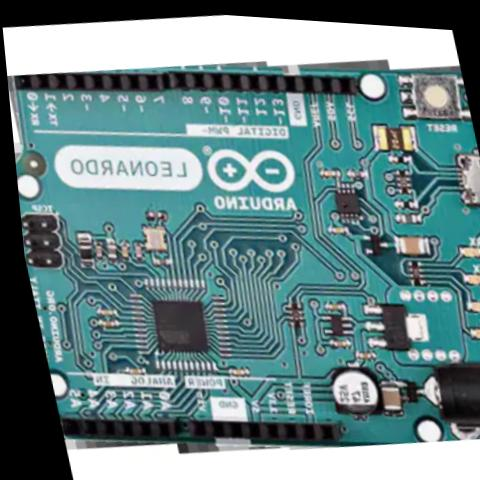Arduino-Leonardo: (1, 19, 480, 480)
